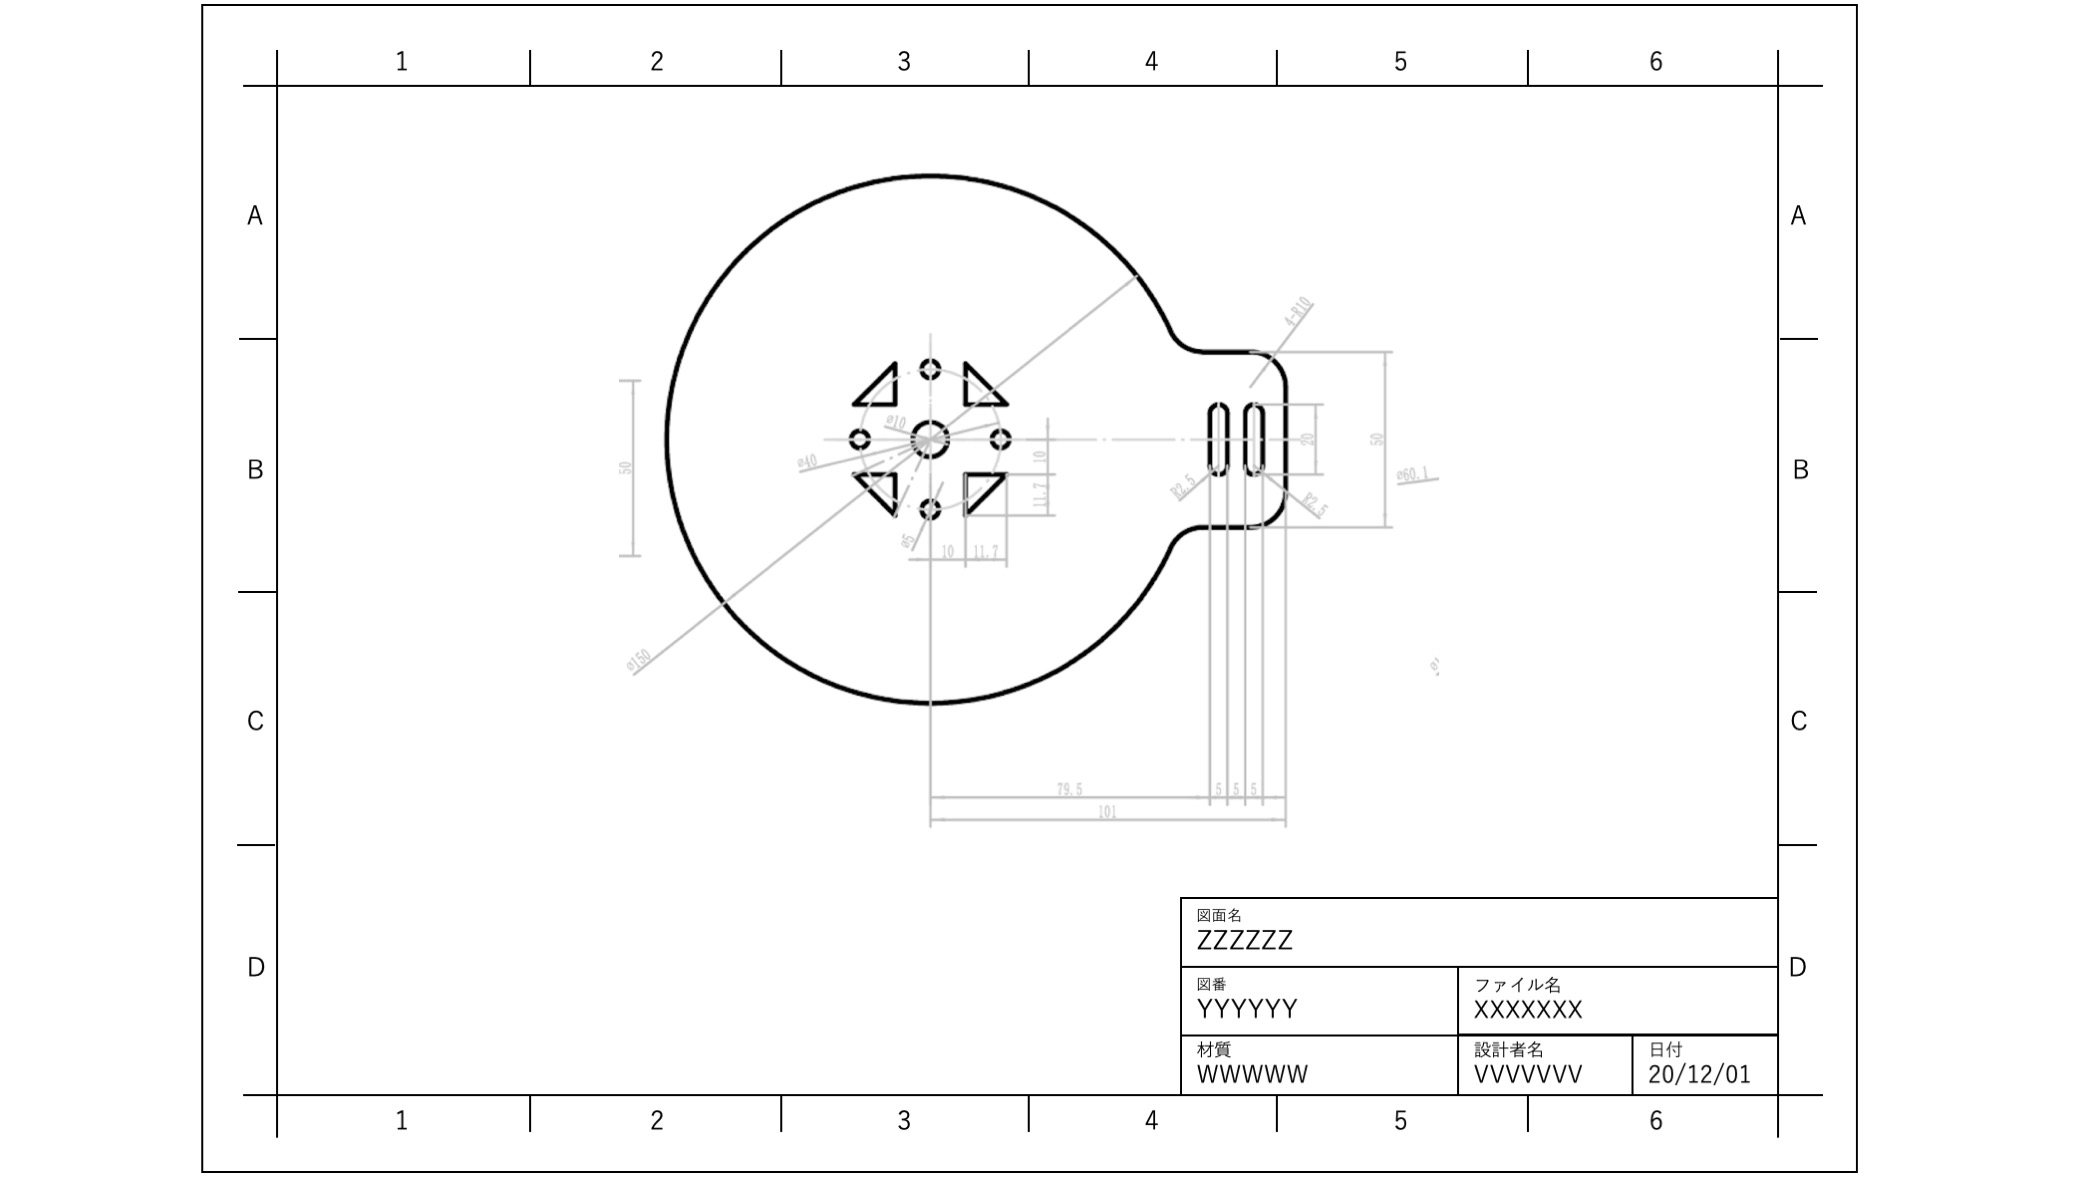circle: (907, 421, 950, 461), (914, 497, 948, 526), (913, 352, 945, 381), (847, 420, 873, 453), (985, 427, 1014, 450)
round_rectangle: (1191, 395, 1237, 480), (1245, 389, 1268, 472)
triangle: (953, 466, 1023, 518), (847, 361, 907, 417), (959, 355, 1020, 410), (841, 464, 899, 519)
